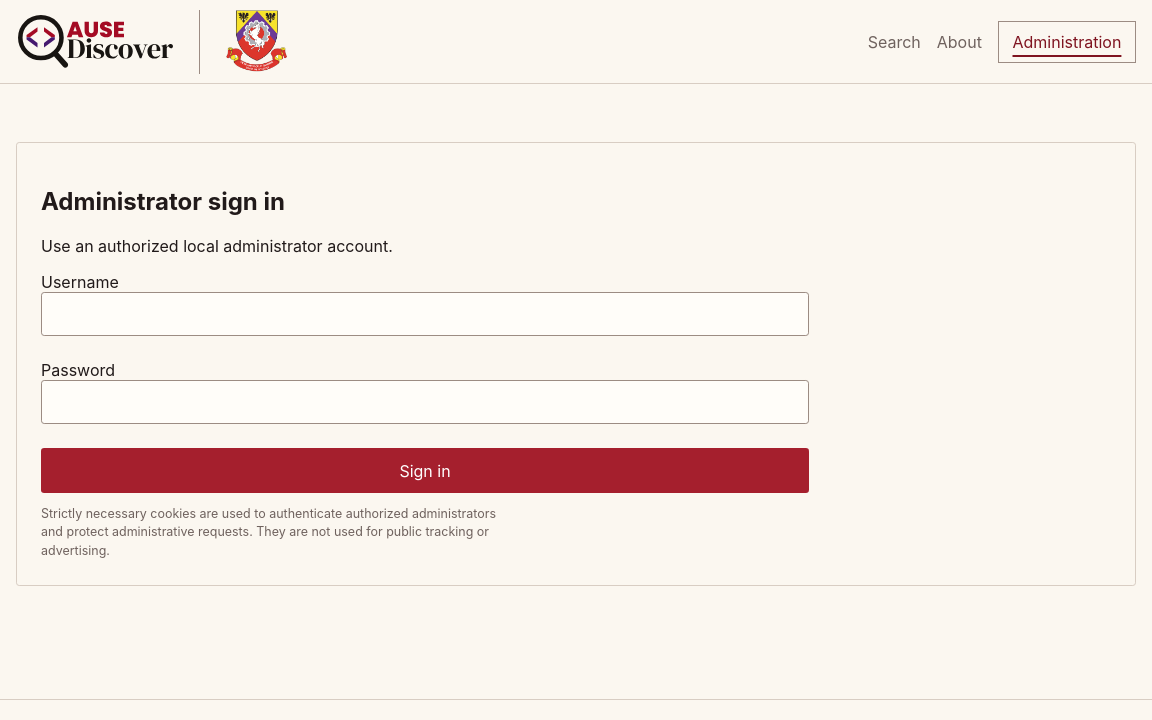
Test case: shared application shell › keeps a failed login on the page with the generic credential failure
The width and height of the screenshot is (1152, 720).
In the field labelled "Username": (425, 314) x1=41 y1=292 x2=809 y2=336, type "someone"
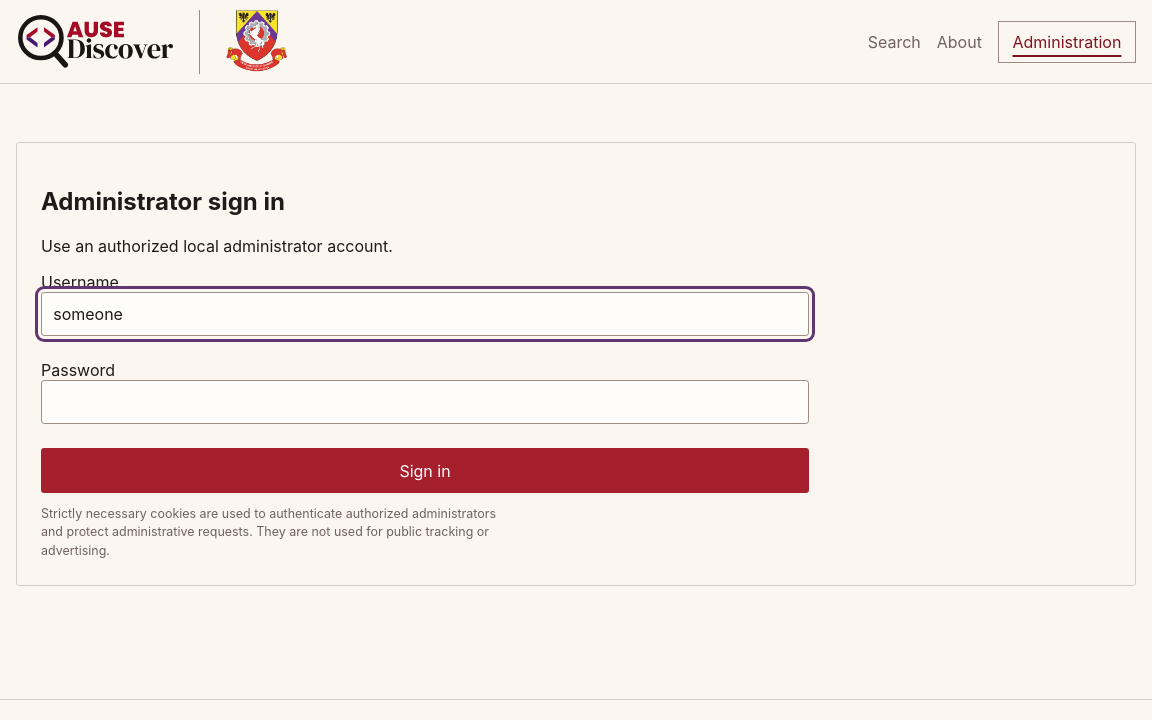
In the password field labelled "Password": (425, 402) x1=41 y1=380 x2=809 y2=424, type "wrong-password"
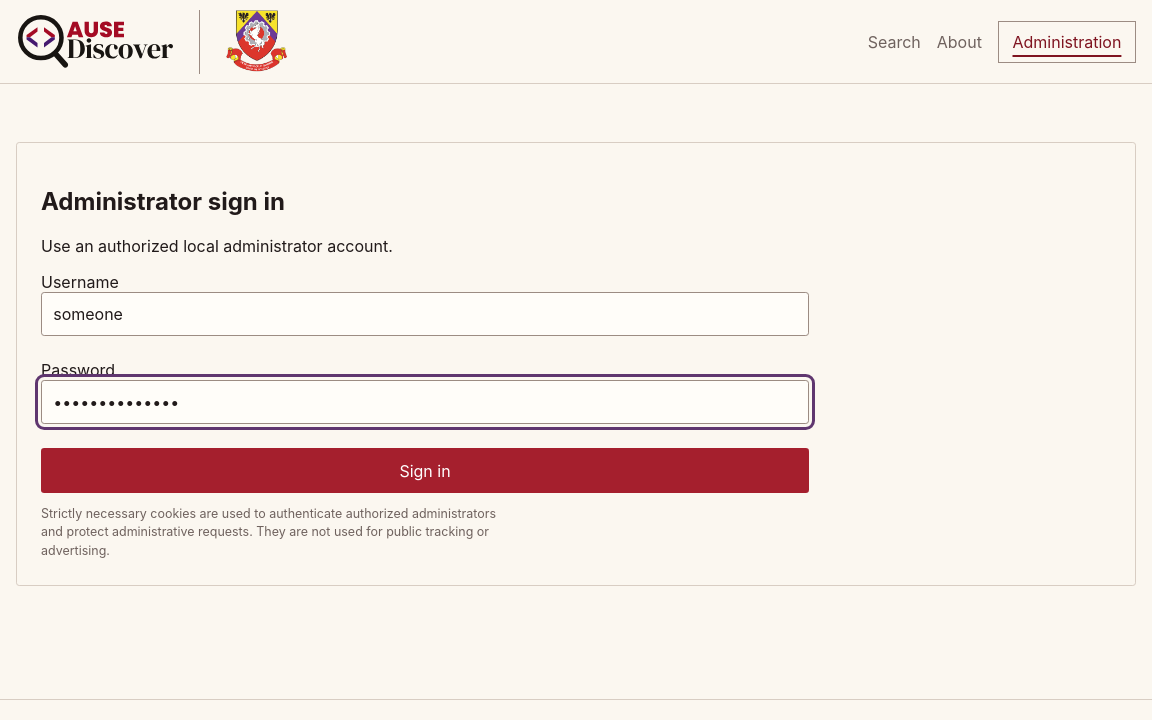
Click the button "Sign in": (425, 471) x1=41 y1=448 x2=809 y2=493
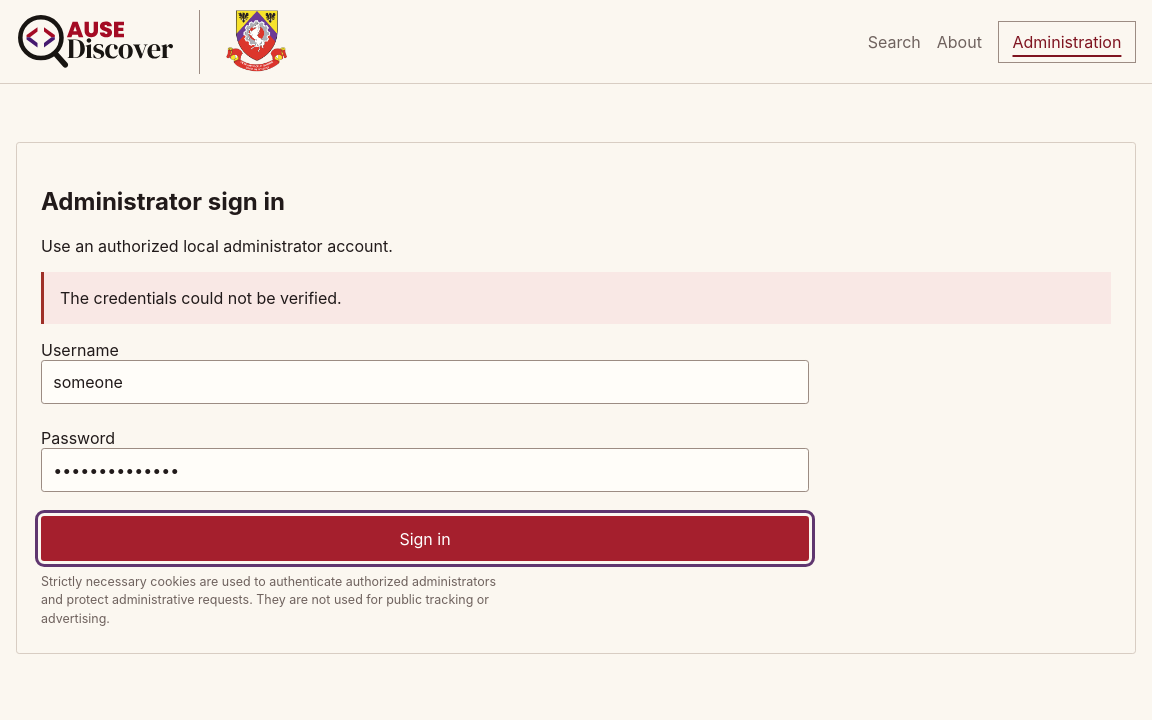
Expected: the heading "Administrator sign in" is shown, x1=41 y1=187 x2=285 y2=216
Expected: the message "The credentials could not be verified." is shown, x1=41 y1=272 x2=1111 y2=324
Expected: the message reads "The credentials could not be verified.", x1=60 y1=288 x2=342 y2=308
